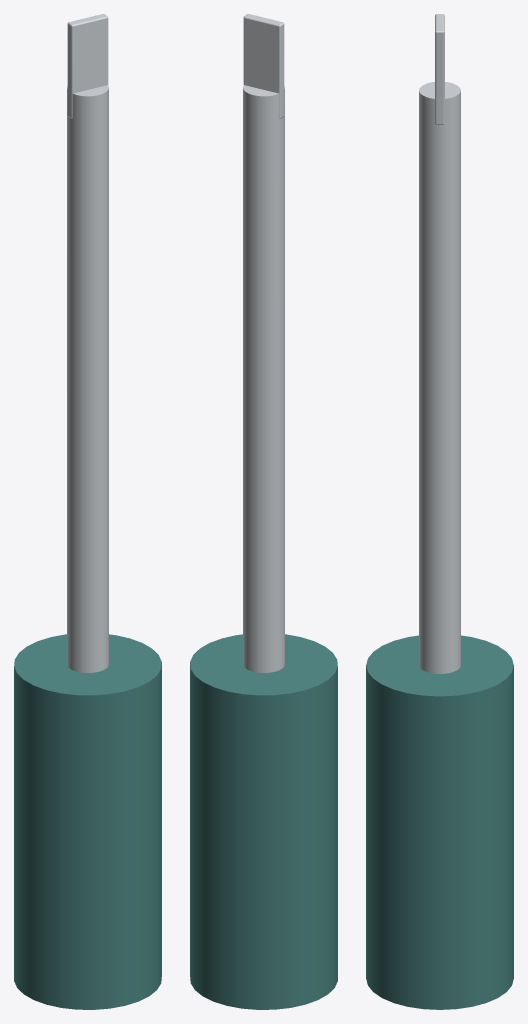
File: wp-tournevis-cruciforme.glb
The picture shows the model from 3 angles, left to right: view 1: azimuth 30°, elevation 25°; view 2: azimuth 150°, elevation 25°; view 3: azimuth 270°, elevation 25°; orthographic projection.
Visible parts, largest first — view 1: wp-tournevis-cruciforme; view 2: wp-tournevis-cruciforme; view 3: wp-tournevis-cruciforme.
Part boxes in pixels (x1,y1,x2,y2): wp-tournevis-cruciforme: [14, 14, 161, 1009]; wp-tournevis-cruciforme: [190, 14, 337, 1009]; wp-tournevis-cruciforme: [366, 14, 513, 1009].
Bounding box in the file's own units: 0.035 × 0.25 × 0.035.
